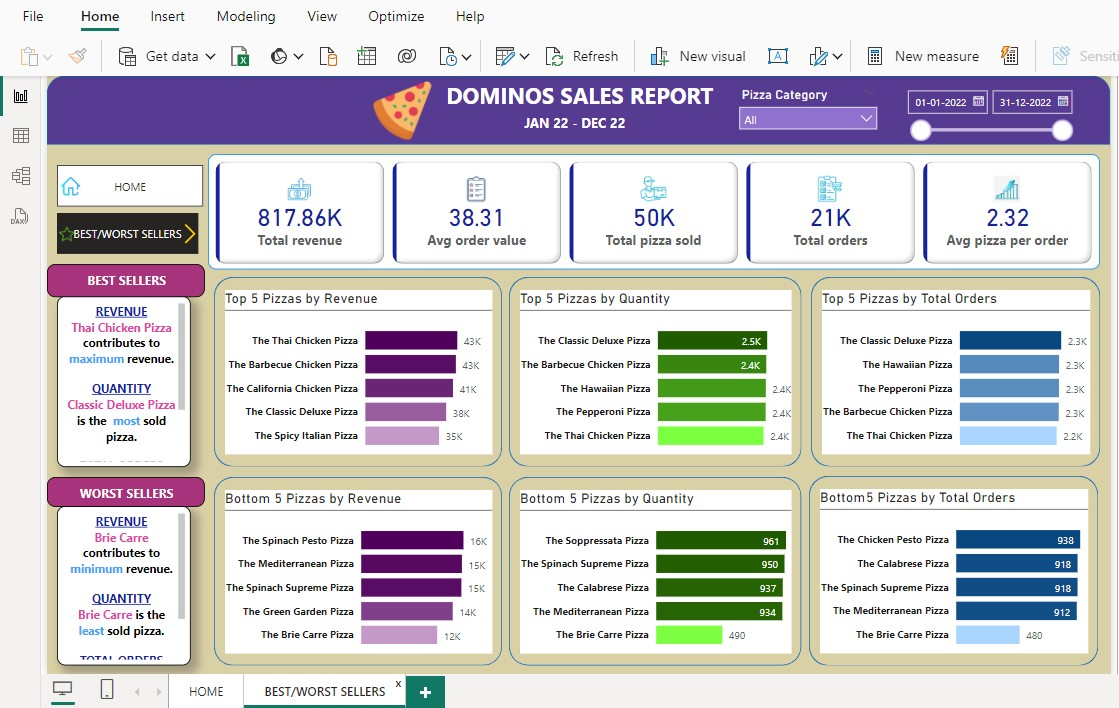

This screenshot's page, from the dashboard's own definition file:
{"tool":"powerbi","page":{"name":"BEST/WORST SELLERS","canvas":[1280,720],"ordinal":1},"visuals":[{"type":"cardVisual","fields":{"Data":["Key_measures.Total revenue","Key_measures.Avg order value","Key_measures.Total pizza sold","Key_measures.Total orders","Key_measures.Avg pizza per order"]},"box":[194.1,93.6,1073.5,139],"z":0},{"type":"group","id":"g1","title":"Group 3","box":[0,0,1280,82.6],"z":1000},{"type":"shape","box":[0,0,1280,82.6],"z":1000,"group":"g1"},{"type":"textbox","box":[12.4,264.8,161,206],"z":1000,"group":"g8"},{"type":"textbox","box":[12.4,518.4,161,191.8],"z":1000,"group":"g9"},{"type":"textbox","box":[475.4,0,347,50.9],"z":2000,"group":"g1"},{"type":"slicer","fields":{"Values":["dominos_sales.pizza_category"]},"box":[823.1,6.9,185.8,66.1],"z":2000},{"type":"slicer","fields":{"Values":["dominos_sales.order_date"]},"box":[1018.2,2.6,229.9,90.7],"z":3000},{"type":"textbox","box":[569,41.3,143.3,31.7],"z":3000,"group":"g1"},{"type":"image","box":[385,0,84.3,82.6],"z":4000,"group":"g1"},{"type":"textbox","box":[0,226.3,189.9,39.9],"z":4000,"group":"g8"},{"type":"group","id":"g2","title":"Group 1","box":[200.9,242.2,346.8,228.5],"z":4000},{"type":"textbox","box":[0,483.1,189.9,36.3],"z":4000,"group":"g9"},{"type":"shape","box":[200.9,242.2,346.8,228.5],"z":5000,"group":"g2"},{"type":"shape","box":[556,242.2,352.3,228.5],"z":5000,"group":"g5"},{"type":"shape","box":[919.4,242.2,348.2,228.5],"z":5000,"group":"g4"},{"type":"shape","box":[918,481.7,348.2,228.5],"z":5000,"group":"g7"},{"type":"group","id":"g3","title":"Group 1","box":[200.9,483.1,346.8,227.1],"z":5000},{"type":"shape","box":[200.9,483.1,346.8,227.1],"z":5000,"group":"g3"},{"type":"shape","box":[556,483.1,351.9,227],"z":5000,"group":"g6"},{"type":"group","id":"g4","title":"Group 1","box":[919.4,242.2,348.2,228.5],"z":6000},{"type":"group","id":"g5","title":"Group 1","box":[556,242.2,352.3,228.5],"z":7000},{"type":"group","id":"g6","title":"Group 1","box":[556,483.1,352.3,227.1],"z":8000},{"type":"group","id":"g7","title":"Group 1","box":[918,481.7,348.2,228.5],"z":9000},{"type":"group","id":"g8","title":"Group 2","box":[0,226.3,189.9,244.4],"z":10000},{"type":"group","id":"g9","title":"Group 2","box":[0,483.1,189.9,227.1],"z":11000},{"type":"pageNavigator","box":[12.4,165.2,170.7,49.5],"z":12000},{"type":"barChart","title":"Top 5 Pizzas by Revenue","fields":{"Category":["dominos_sales.pizza_name"],"Y":["Key_measures.Total revenue"]},"box":[214,257.5,321.9,197.8],"z":12001,"group":"g2"},{"type":"barChart","title":"Top 5 Pizzas by Quantity","fields":{"Category":["dominos_sales.pizza_name"],"Y":["Key_measures.Total pizza sold"]},"box":[569.3,257.5,327,197.8],"z":12001,"group":"g5"},{"type":"barChart","title":"Top 5 Pizzas by Total Orders","fields":{"Category":["dominos_sales.pizza_name"],"Y":["Key_measures.Total orders"]},"box":[932.6,257.5,323.2,197.8],"z":12001,"group":"g4"},{"type":"barChart","title":"Bottom5 Pizzas by Total Orders","fields":{"Category":["dominos_sales.pizza_name"],"Y":["Key_measures.Total orders"]},"box":[931.2,497,323.2,197.8],"z":12001,"group":"g7"},{"type":"barChart","title":"Bottom 5 Pizzas by Revenue","fields":{"Category":["dominos_sales.pizza_name"],"Y":["Key_measures.Total revenue"]},"box":[214,498.3,321.9,196.6],"z":12001,"group":"g3"},{"type":"barChart","title":"Bottom 5 Pizzas by Quantity","fields":{"Category":["dominos_sales.pizza_name"],"Y":["Key_measures.Total pizza sold"]},"box":[569.3,498.3,326.6,196.5],"z":12001,"group":"g6"},{"type":"pageNavigator","box":[12.4,107.4,176.2,50.9],"z":13000},{"type":"image","box":[155.5,165.2,34.4,49.5],"z":14000},{"type":"image","box":[12.4,114.2,33,35.8],"z":15000},{"type":"image","box":[9.6,166.5,27.5,46.8],"z":16000}]}

Visuals, with their boxes on the page's 1280x720 design canvas (x1, y1, x2, y2). These are canvas units, not pixel positions in the 1119x708 screenshot, which may show the page scaled, cropped or inside an application window:
cardVisual - Key_measures.Total revenue x Key_measures.Avg order value: select_region(194, 94, 1268, 233)
"Group 3" group: select_region(0, 0, 1280, 83)
shape: select_region(0, 0, 1280, 83)
textbox: select_region(12, 265, 173, 471)
textbox: select_region(12, 518, 173, 710)
textbox: select_region(475, 0, 822, 51)
slicer - dominos_sales.pizza_category: select_region(823, 7, 1009, 73)
slicer - dominos_sales.order_date: select_region(1018, 3, 1248, 93)
textbox: select_region(569, 41, 712, 73)
image: select_region(385, 0, 469, 83)
textbox: select_region(0, 226, 190, 266)
"Group 1" group: select_region(201, 242, 548, 471)
textbox: select_region(0, 483, 190, 519)
shape: select_region(201, 242, 548, 471)
shape: select_region(556, 242, 908, 471)
shape: select_region(919, 242, 1268, 471)
shape: select_region(918, 482, 1266, 710)
"Group 1" group: select_region(201, 483, 548, 710)
shape: select_region(201, 483, 548, 710)
shape: select_region(556, 483, 908, 710)
"Group 1" group: select_region(919, 242, 1268, 471)
"Group 1" group: select_region(556, 242, 908, 471)
"Group 1" group: select_region(556, 483, 908, 710)
"Group 1" group: select_region(918, 482, 1266, 710)
"Group 2" group: select_region(0, 226, 190, 471)
"Group 2" group: select_region(0, 483, 190, 710)
pageNavigator: select_region(12, 165, 183, 215)
"Top 5 Pizzas by Revenue" barChart: select_region(214, 258, 536, 455)
"Top 5 Pizzas by Quantity" barChart: select_region(569, 258, 896, 455)
"Top 5 Pizzas by Total Orders" barChart: select_region(933, 258, 1256, 455)
"Bottom5 Pizzas by Total Orders" barChart: select_region(931, 497, 1254, 695)
"Bottom 5 Pizzas by Revenue" barChart: select_region(214, 498, 536, 695)
"Bottom 5 Pizzas by Quantity" barChart: select_region(569, 498, 896, 695)
pageNavigator: select_region(12, 107, 189, 158)
image: select_region(156, 165, 190, 215)
image: select_region(12, 114, 45, 150)
image: select_region(10, 166, 37, 213)
